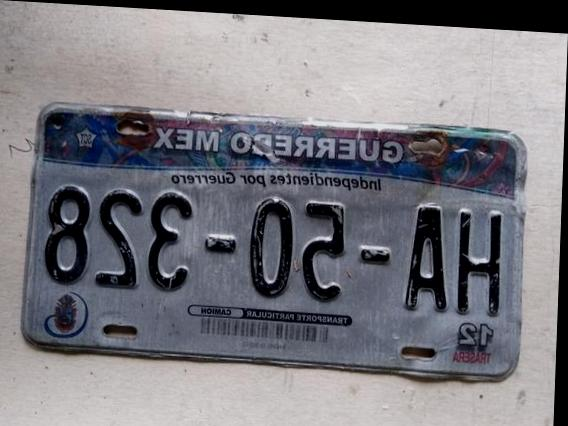License_Plate: (12, 93, 538, 386)
